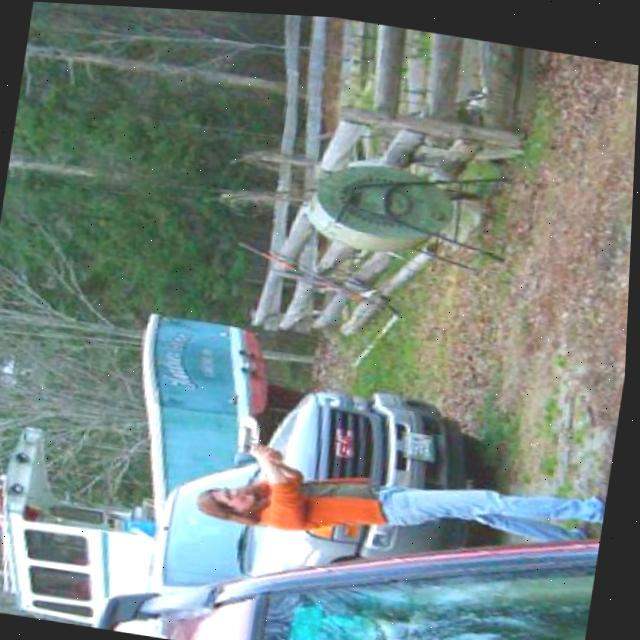gun: (234, 419, 284, 456)
